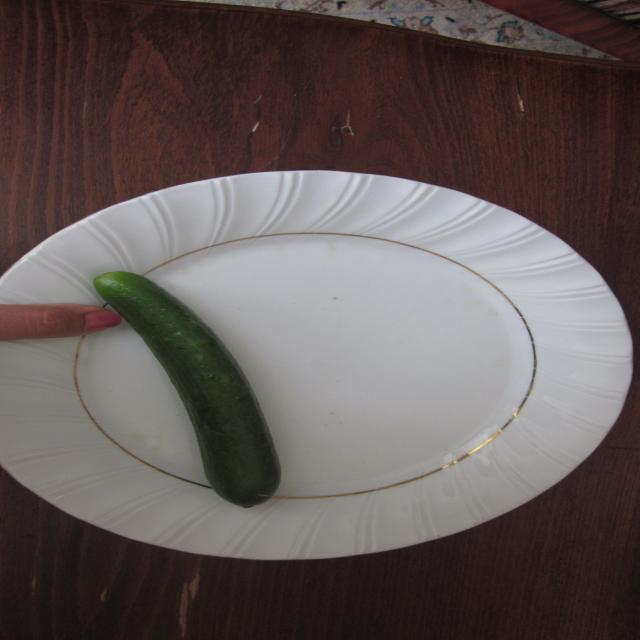cucumber: (90, 270, 330, 516)
